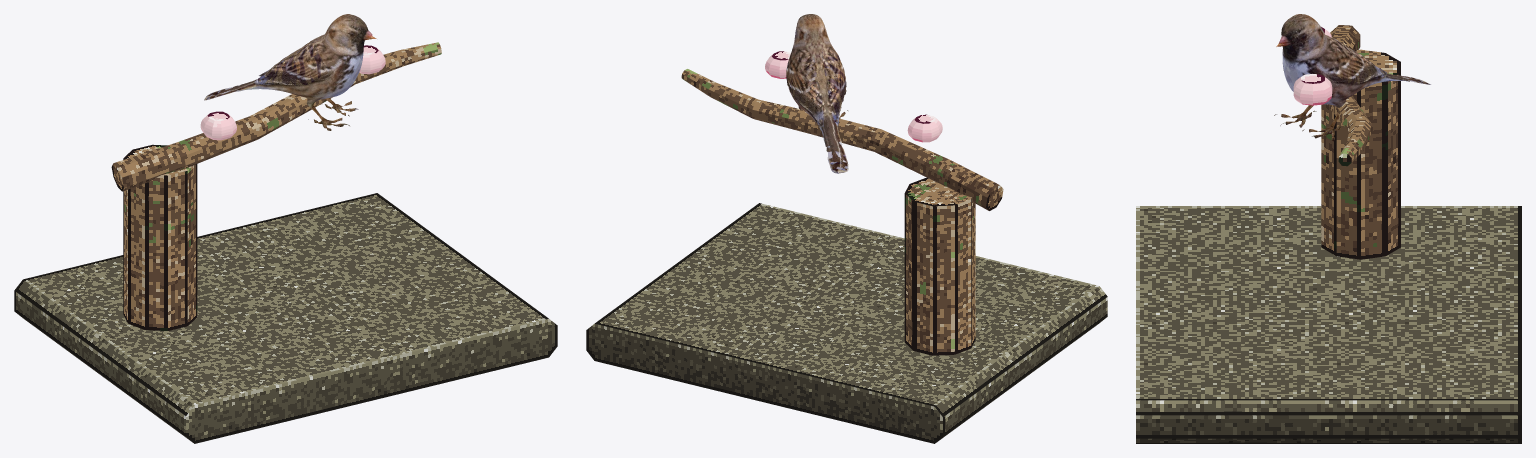
File: suzume.glb
3 renders of one model, left to right at view 1: azimuth 30°, elevation 25°; view 2: azimuth 150°, elevation 25°; view 3: azimuth 270°, elevation 25°, orthographic. The views are drawn at different scales.
Parts seen in each view (by area): view 1: base, post, model_bird, branch, bloom0, bloom1; view 2: base, post, branch, model_bird, bloom0, bloom1; view 3: base, post, model_bird, branch, bloom1.
Boxes of the visible parts, bbox=[...] form: base: bbox=[14, 193, 557, 443]; post: bbox=[123, 144, 197, 330]; model_bird: bbox=[204, 14, 376, 130]; branch: bbox=[111, 42, 441, 191]; bloom0: bbox=[200, 111, 236, 140]; bloom1: bbox=[359, 45, 385, 74]; base: bbox=[586, 203, 1107, 443]; post: bbox=[904, 177, 975, 355]; branch: bbox=[681, 69, 1003, 210]; model_bird: bbox=[786, 14, 848, 173]; bloom0: bbox=[907, 114, 942, 142]; bloom1: bbox=[765, 51, 790, 78]; base: bbox=[1136, 206, 1521, 443]; post: bbox=[1321, 49, 1400, 259]; model_bird: bbox=[1274, 14, 1430, 141]; branch: bbox=[1327, 25, 1371, 166]; bloom1: bbox=[1293, 74, 1332, 105].
Bounding box in the file's own units: 30 × 24.6 × 24.
2 materials, 2 textured.
